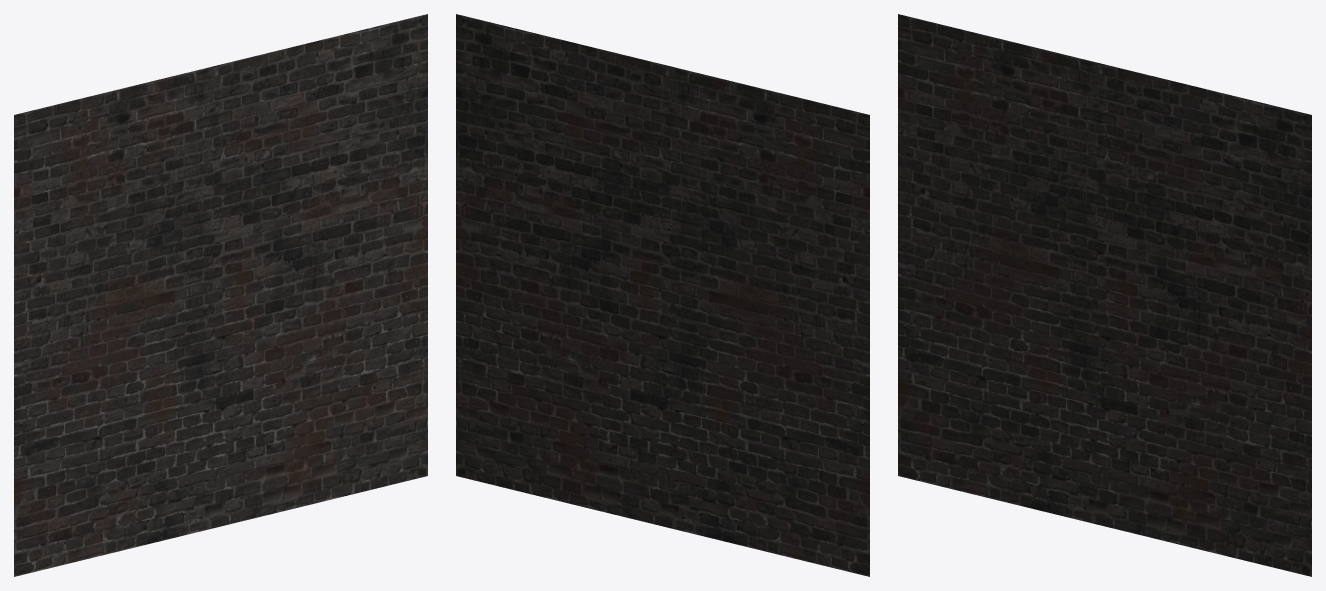
File: wall_panel.glb
3 views of the same model, side by side, from view 1: azimuth 30°, elevation 25°; view 2: azimuth 150°, elevation 25°; view 3: azimuth 330°, elevation 25° (orthographic).
Parts seen in each view (by area): view 1: wall_panel; view 2: wall_panel; view 3: wall_panel.
Boxes of the visible parts, x1,y1,x2,y2 form: wall_panel: (14, 14, 427, 576); wall_panel: (456, 14, 869, 576); wall_panel: (898, 14, 1311, 576).
Size of the model in its own units: 3 by 3.2 by 0.
Materials: 1 (1 with a texture image).
